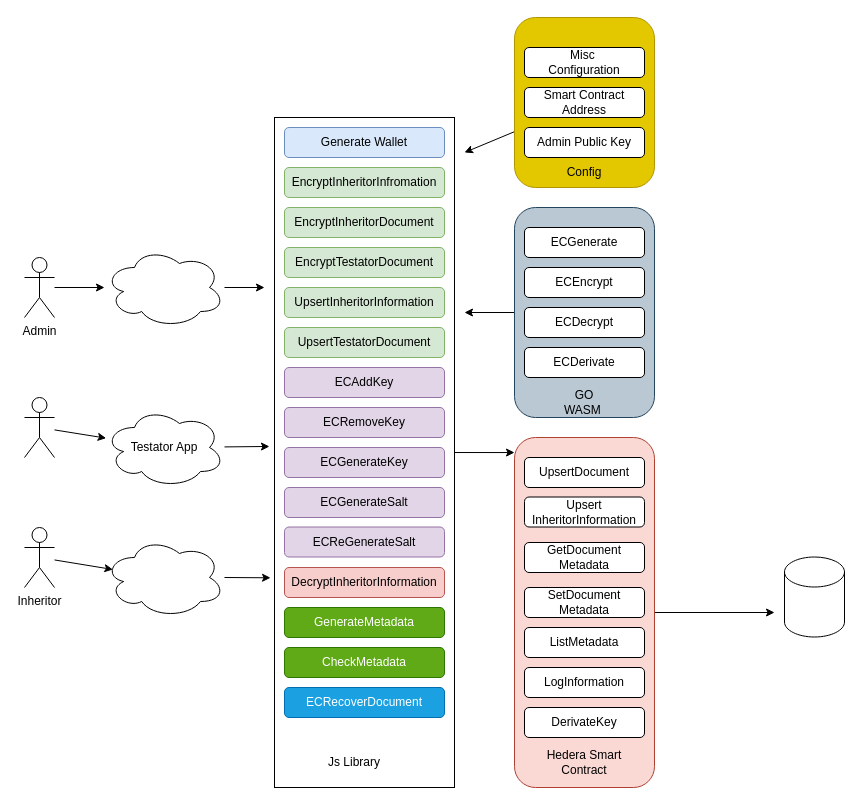
The diagram is 862 pixels wide and 805 high, and some of its shapes have lost their labels. The shapes that lost their labels are listed below. From the top down, each one's centre as x and y in pixels, then its label:
At (164,287): "Admin App".
At (39,427): "Testator".
At (164,577): "Inheritor App".
At (814,596): "Hedera Blockchain".
